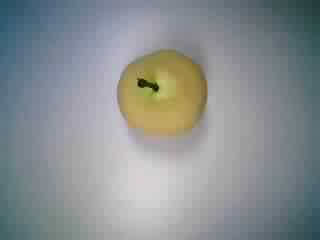pear: (106, 39, 217, 151)
